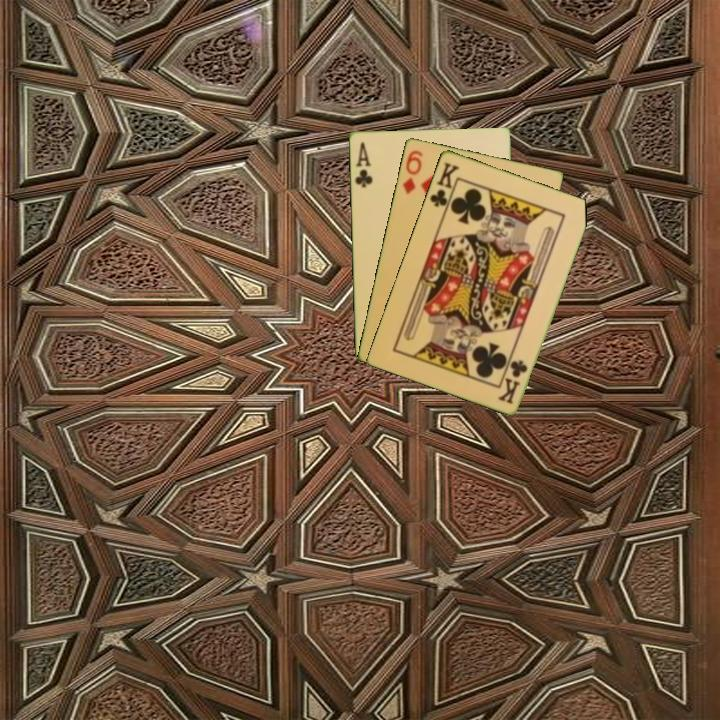6d: (399, 146, 426, 197)
Ac: (351, 138, 375, 190)
Kc: (426, 158, 462, 214), (495, 356, 530, 407)
